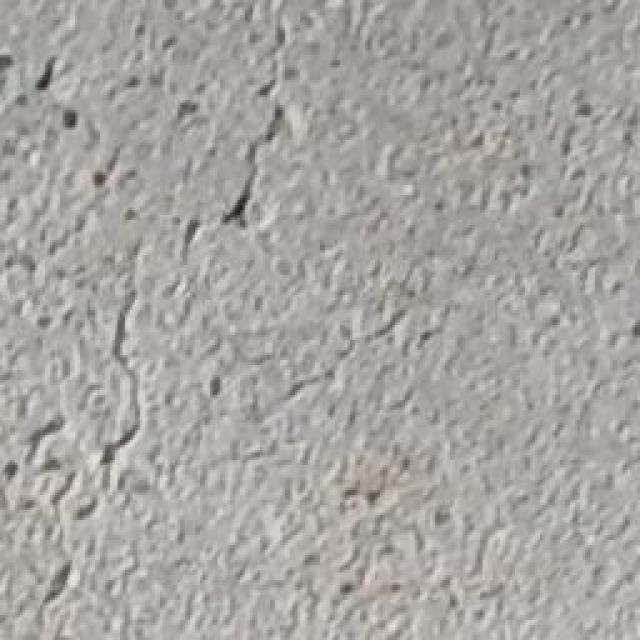concrete-crack: (19, 251, 146, 636), (220, 2, 292, 228)
